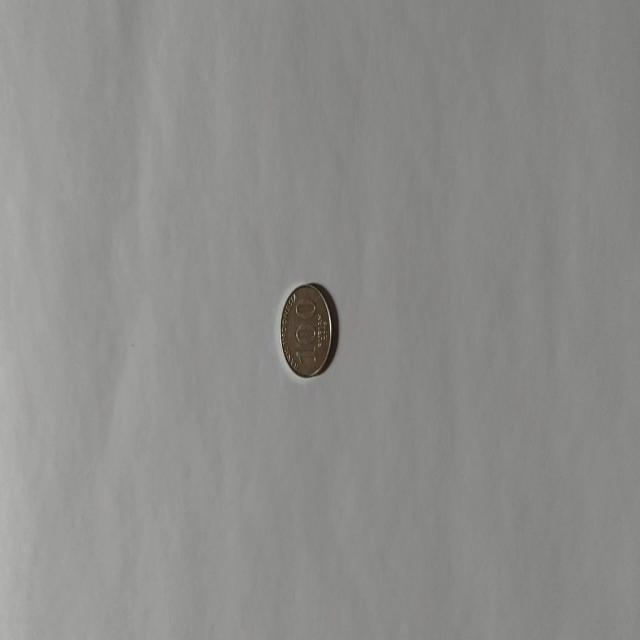seratus rupiah: (279, 282, 333, 378)
